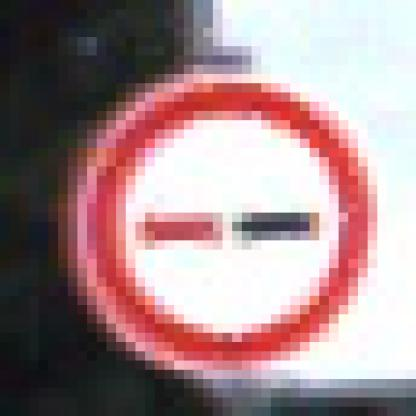No Overtaking: (59, 56, 369, 371)
